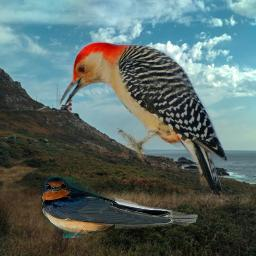Swallow: (37, 173, 198, 238)
Woodpecker: (58, 41, 232, 205)
